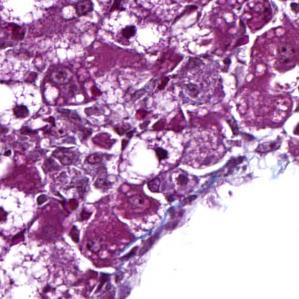ballooning: (117, 128, 186, 187), (97, 8, 169, 56), (4, 79, 46, 135)
